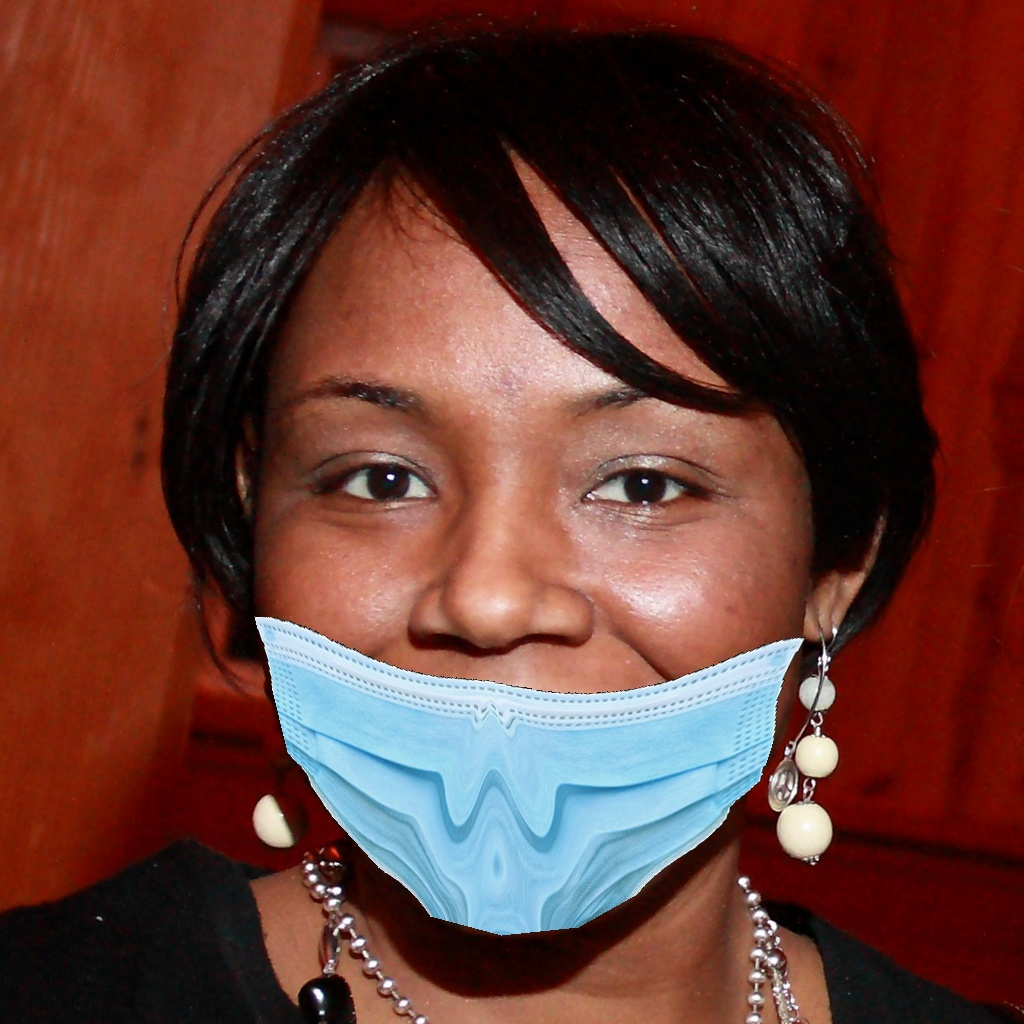mask_weared_incorrect: (248, 364, 773, 952)
